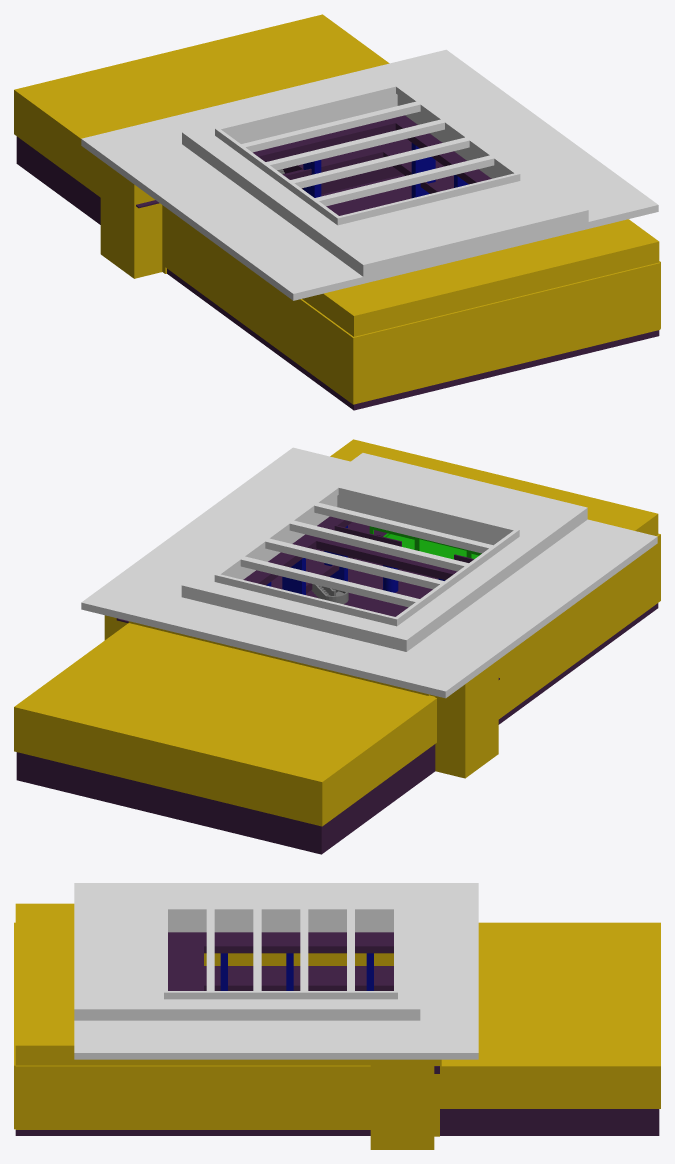
The model's file is Prototype Build 1.fbx.
The picture shows the model from 3 angles, top to bottom: view 1: azimuth 30°, elevation 25°; view 2: azimuth 150°, elevation 25°; view 3: azimuth 270°, elevation 25°; orthographic projection. The views are drawn at different scales.
Visible parts, largest first — view 1: Box046, Box045, Box042, Box047, Box001, Box039; view 2: Box046, Box042, Box045, Box001, Box047, Box039, Box004; view 3: Box046, Box045, Box042, Box001, Box047, Box039.
Part boxes in pixels (<box>): Box046: <box>81,49,658,300</box>; Box045: <box>100,160,660,404</box>; Box042: <box>14,14,389,197</box>; Box047: <box>215,84,520,225</box>; Box001: <box>16,136,659,410</box>; Box039: <box>136,115,491,208</box>; Box046: <box>81,447,657,698</box>; Box042: <box>14,623,436,826</box>; Box045: <box>104,439,660,778</box>; Box001: <box>16,522,658,854</box>; Box047: <box>214,485,519,626</box>; Box039: <box>116,516,499,679</box>; Box004: <box>369,527,480,559</box>; Box046: <box>74,883,478,1059</box>; Box045: <box>14,903,441,1149</box>; Box042: <box>438,922,660,1108</box>; Box001: <box>15,966,659,1135</box>; Box047: <box>164,907,397,999</box>; Box039: <box>168,932,439,1073</box>.
Size of the model in its own units: 38.67 by 12.17 by 62.22.
